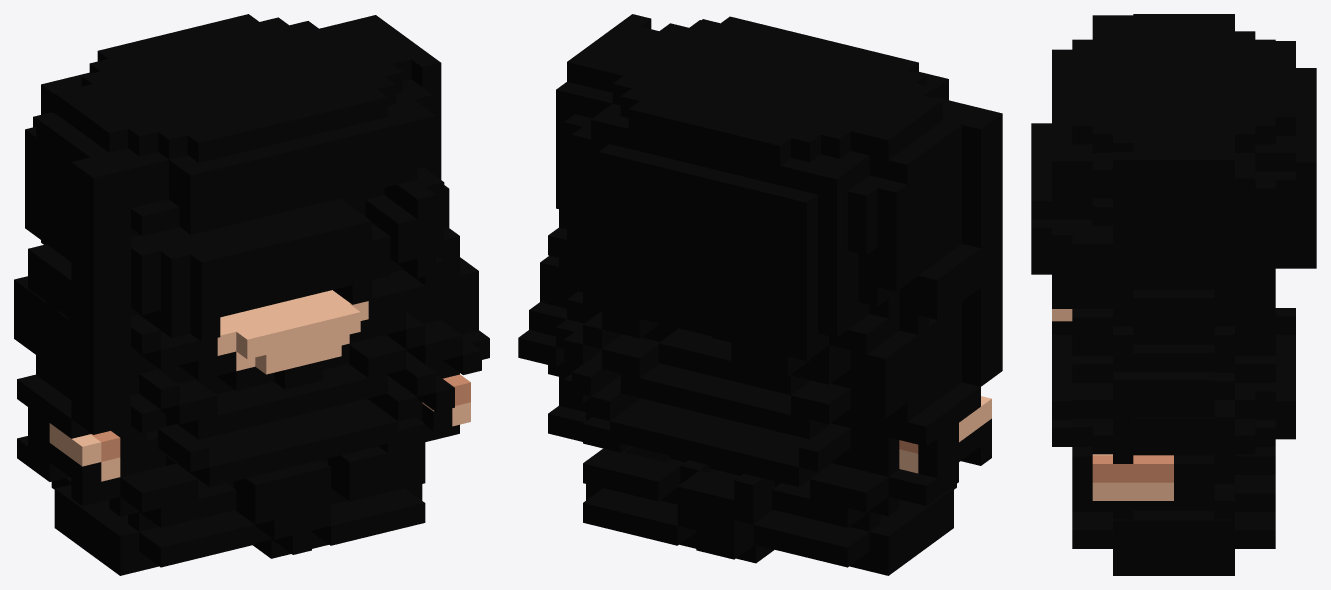
Rendered from Icon_702_01.obj.
3 views of the same model, side by side, from view 1: azimuth 30°, elevation 25°; view 2: azimuth 150°, elevation 25°; view 3: azimuth 270°, elevation 25° (orthographic). The views are drawn at different scales.
Parts seen in each view (by area): view 1: Icon-701-02; view 2: Icon-701-02; view 3: Icon-701-02.
Part boxes in pixels (box(x1,y1,x2,y2)): Icon-701-02: box(14, 14, 489, 575); Icon-701-02: box(518, 14, 1002, 575); Icon-701-02: box(1031, 14, 1316, 575).
Bounding box in the file's own units: 2.1 × 2.3 × 1.4.
